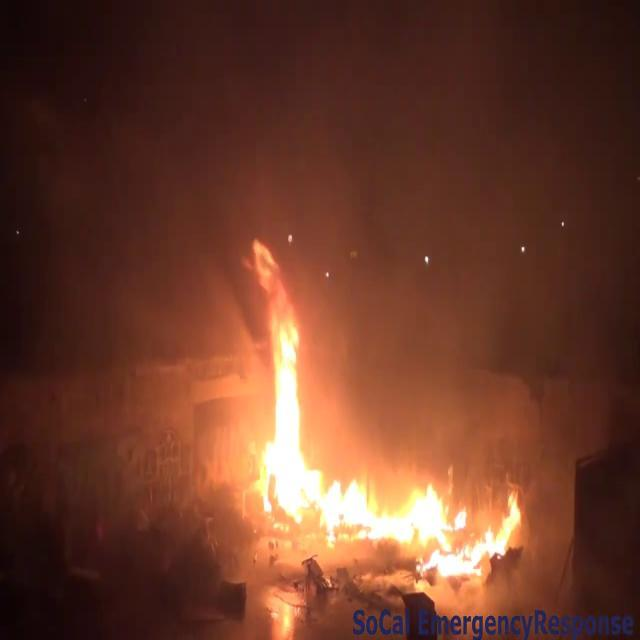Fire: (236, 240, 524, 574)
Smoke: (42, 0, 626, 372)
